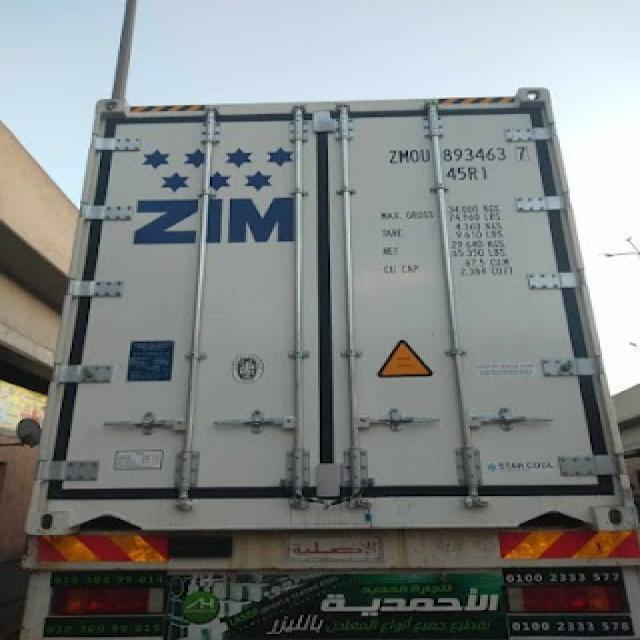ISO: (445, 163, 488, 183)
container_number: (391, 146, 527, 164)
